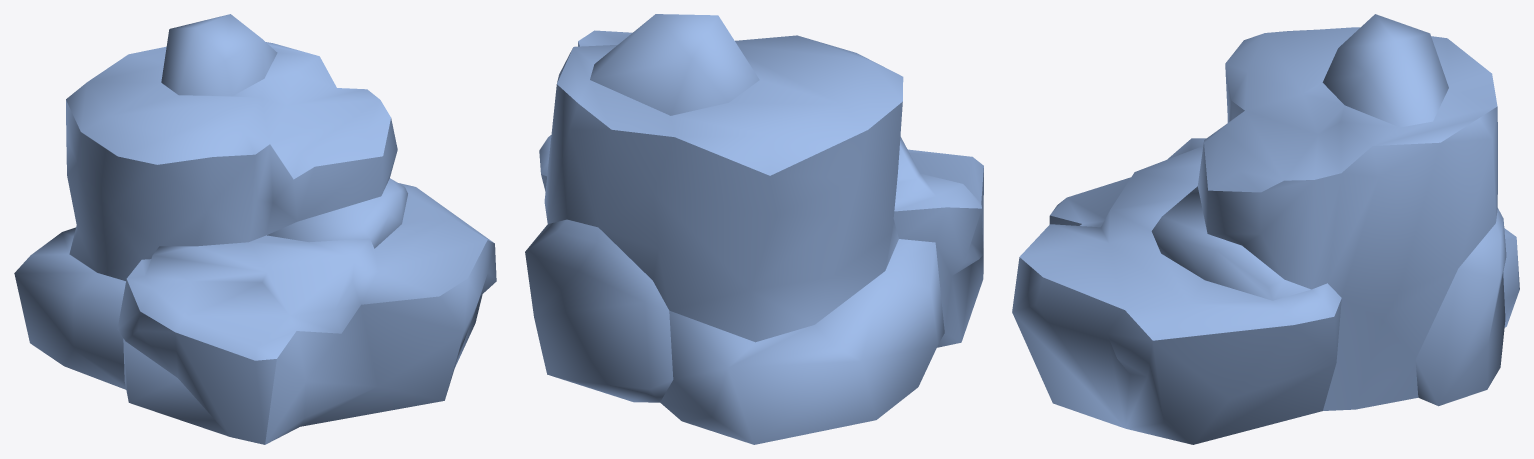
The model's file is rock_2.fbx.
3 renders of one model, left to right at view 1: azimuth 30°, elevation 25°; view 2: azimuth 150°, elevation 25°; view 3: azimuth 270°, elevation 25°, orthographic. The views are drawn at different scales.
Parts seen in each view (by area): view 1: rock_2; view 2: rock_2; view 3: rock_2.
Boxes of the visible parts, bbox=[...] form: rock_2: bbox=[14, 14, 496, 444]; rock_2: bbox=[525, 14, 983, 444]; rock_2: bbox=[1012, 14, 1519, 444].
Size of the model in its own units: 213 by 171 by 235.
